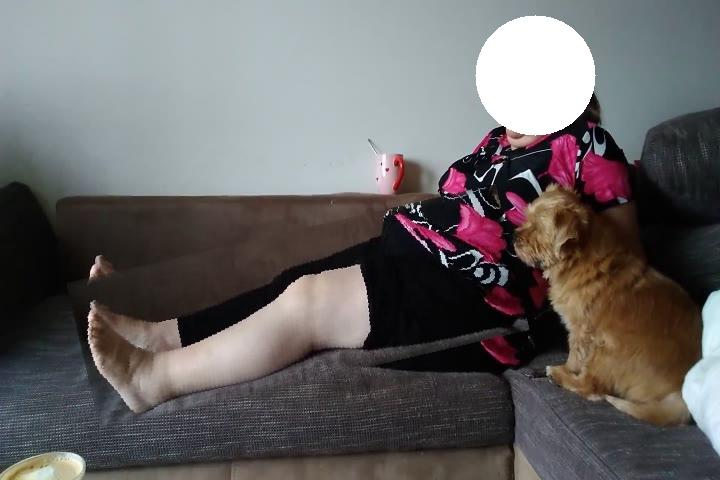lower_body: (72, 209, 525, 407)
